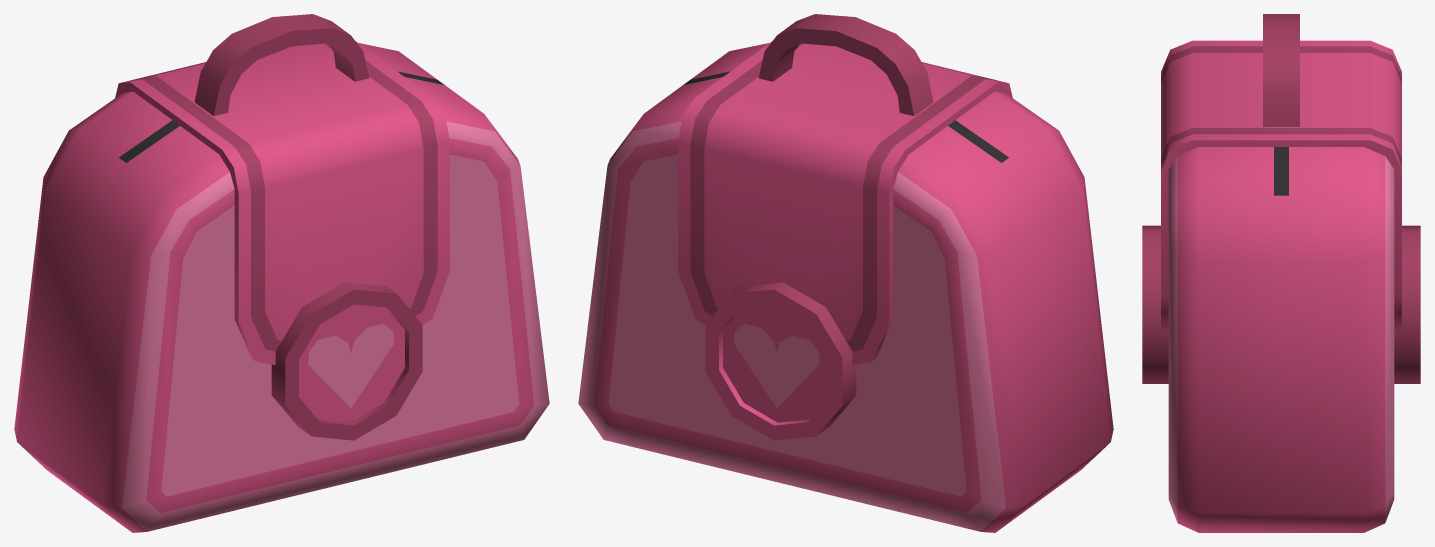
The model's file is Bag_01.fbx.
3 views of the same model, side by side, from view 1: azimuth 30°, elevation 25°; view 2: azimuth 150°, elevation 25°; view 3: azimuth 270°, elevation 25° (orthographic). The views are drawn at different scales.
Visible parts, largest first — view 1: Bag_01; view 2: Bag_01; view 3: Bag_01.
Boxes of the visible parts, x1=… form: Bag_01: x1=14, y1=14, x2=549, y2=532; Bag_01: x1=578, y1=14, x2=1113, y2=532; Bag_01: x1=1142, y1=14, x2=1420, y2=532.
Bounding box in the file's own units: 0.3906 × 0.3618 × 0.2192.
